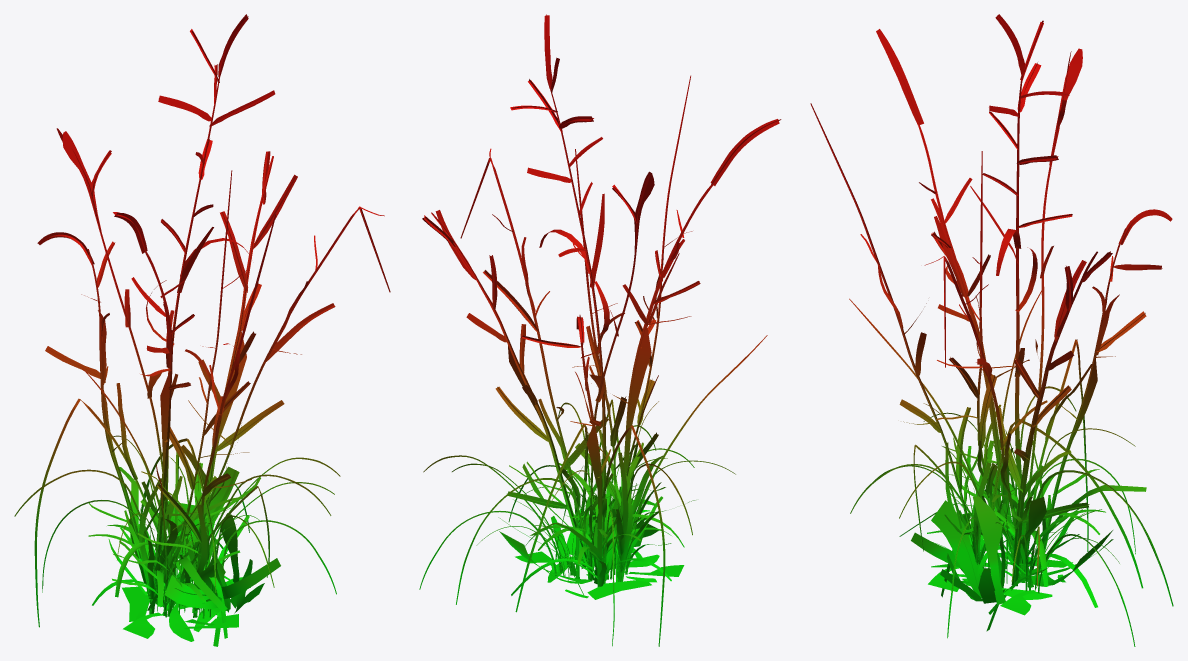
Rendered from tcepfcfr_Var1_LOD0.fbx.
3 views of the same model, side by side, from view 1: azimuth 30°, elevation 25°; view 2: azimuth 150°, elevation 25°; view 3: azimuth 270°, elevation 25° (orthographic). The views are drawn at different scales.
Visible parts, largest first — view 1: _b4dd_Var1_LOD0; view 2: _b4dd_Var1_LOD0; view 3: _b4dd_Var1_LOD0.
Part boxes in pixels (bbox=[...]): _b4dd_Var1_LOD0: bbox=[14, 14, 390, 646]; _b4dd_Var1_LOD0: bbox=[419, 14, 781, 646]; _b4dd_Var1_LOD0: bbox=[810, 14, 1173, 646].
Size of the model in its own units: 51.22 by 97.08 by 50.35.
